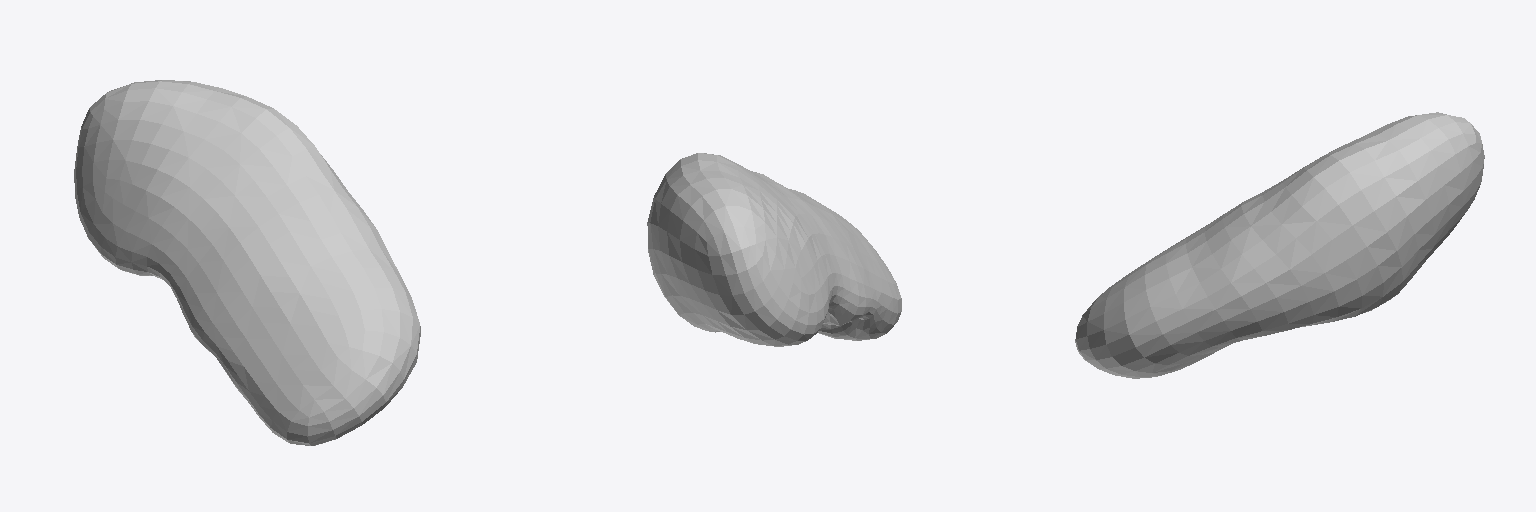
Rendered from 2K_Kidney_Right.OBJ.
3 renders of one model, left to right at view 1: azimuth 30°, elevation 25°; view 2: azimuth 150°, elevation 25°; view 3: azimuth 270°, elevation 25°, orthographic.
Visible parts, largest first — view 1: ZBrushPolyMesh3D; view 2: ZBrushPolyMesh3D; view 3: ZBrushPolyMesh3D.
Boxes of the visible parts, x1=… form: ZBrushPolyMesh3D: x1=74, y1=80, x2=420, y2=445; ZBrushPolyMesh3D: x1=647, y1=153, x2=901, y2=346; ZBrushPolyMesh3D: x1=1075, y1=112, x2=1484, y2=378.
Bounding box in the file's own units: 8.14 × 9.49 × 14.